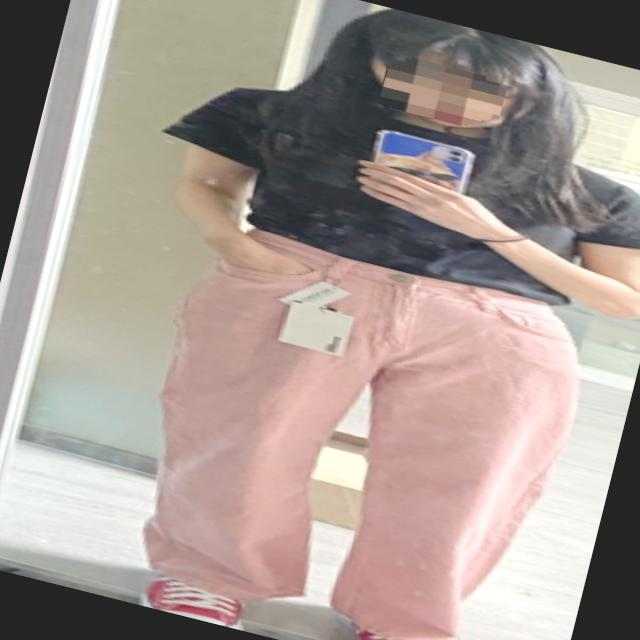cottonpants: (104, 214, 597, 640)
shortsleeve: (145, 60, 640, 329)
